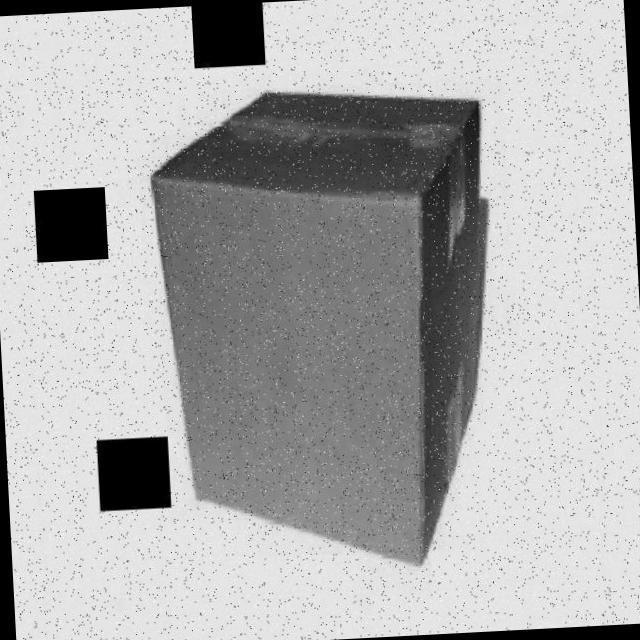box: (123, 63, 526, 592)
